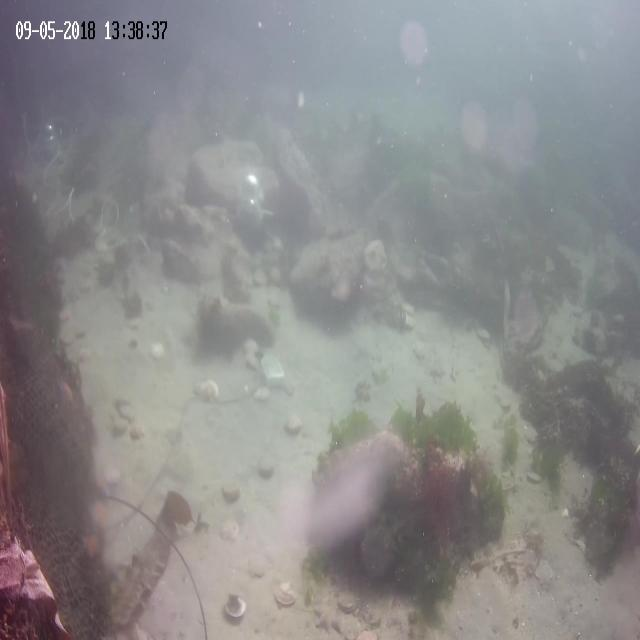scallop: (224, 589, 247, 621), (196, 374, 218, 404), (274, 580, 296, 608), (219, 517, 240, 543), (282, 413, 304, 435), (257, 454, 274, 480), (222, 478, 241, 499), (340, 592, 359, 612), (526, 468, 542, 486)
starfish: (313, 600, 341, 638), (54, 375, 76, 403), (88, 498, 106, 532), (82, 531, 99, 561), (95, 469, 109, 498)
